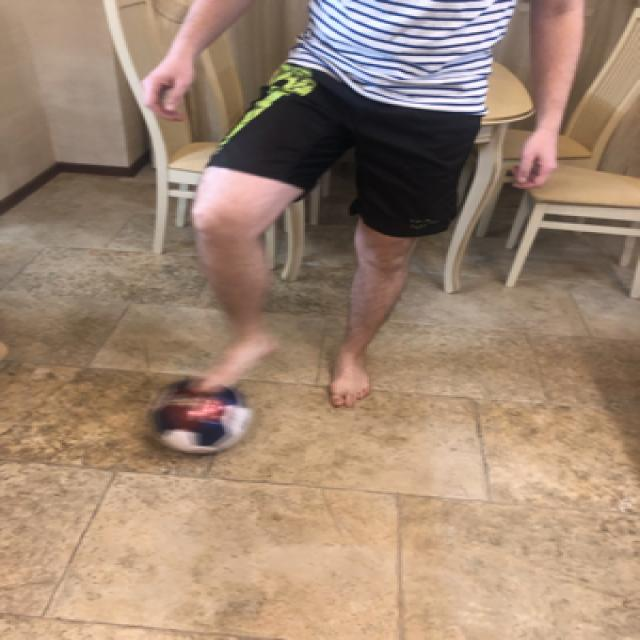soccer_ball: (143, 376, 252, 451)
